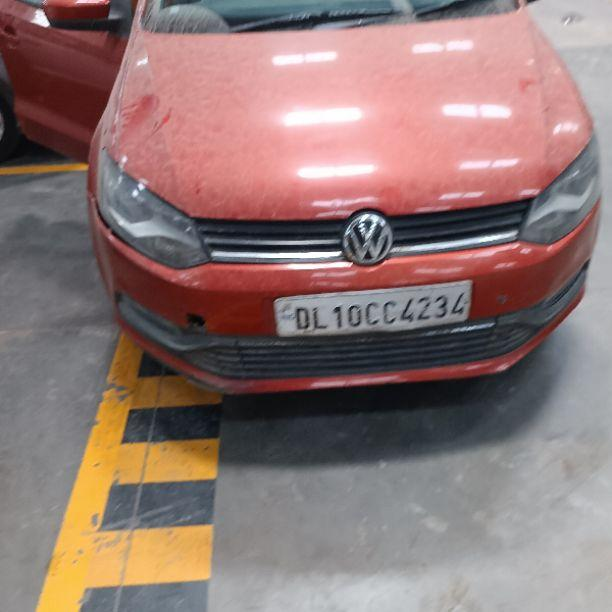license_plate: (271, 278, 473, 338)
